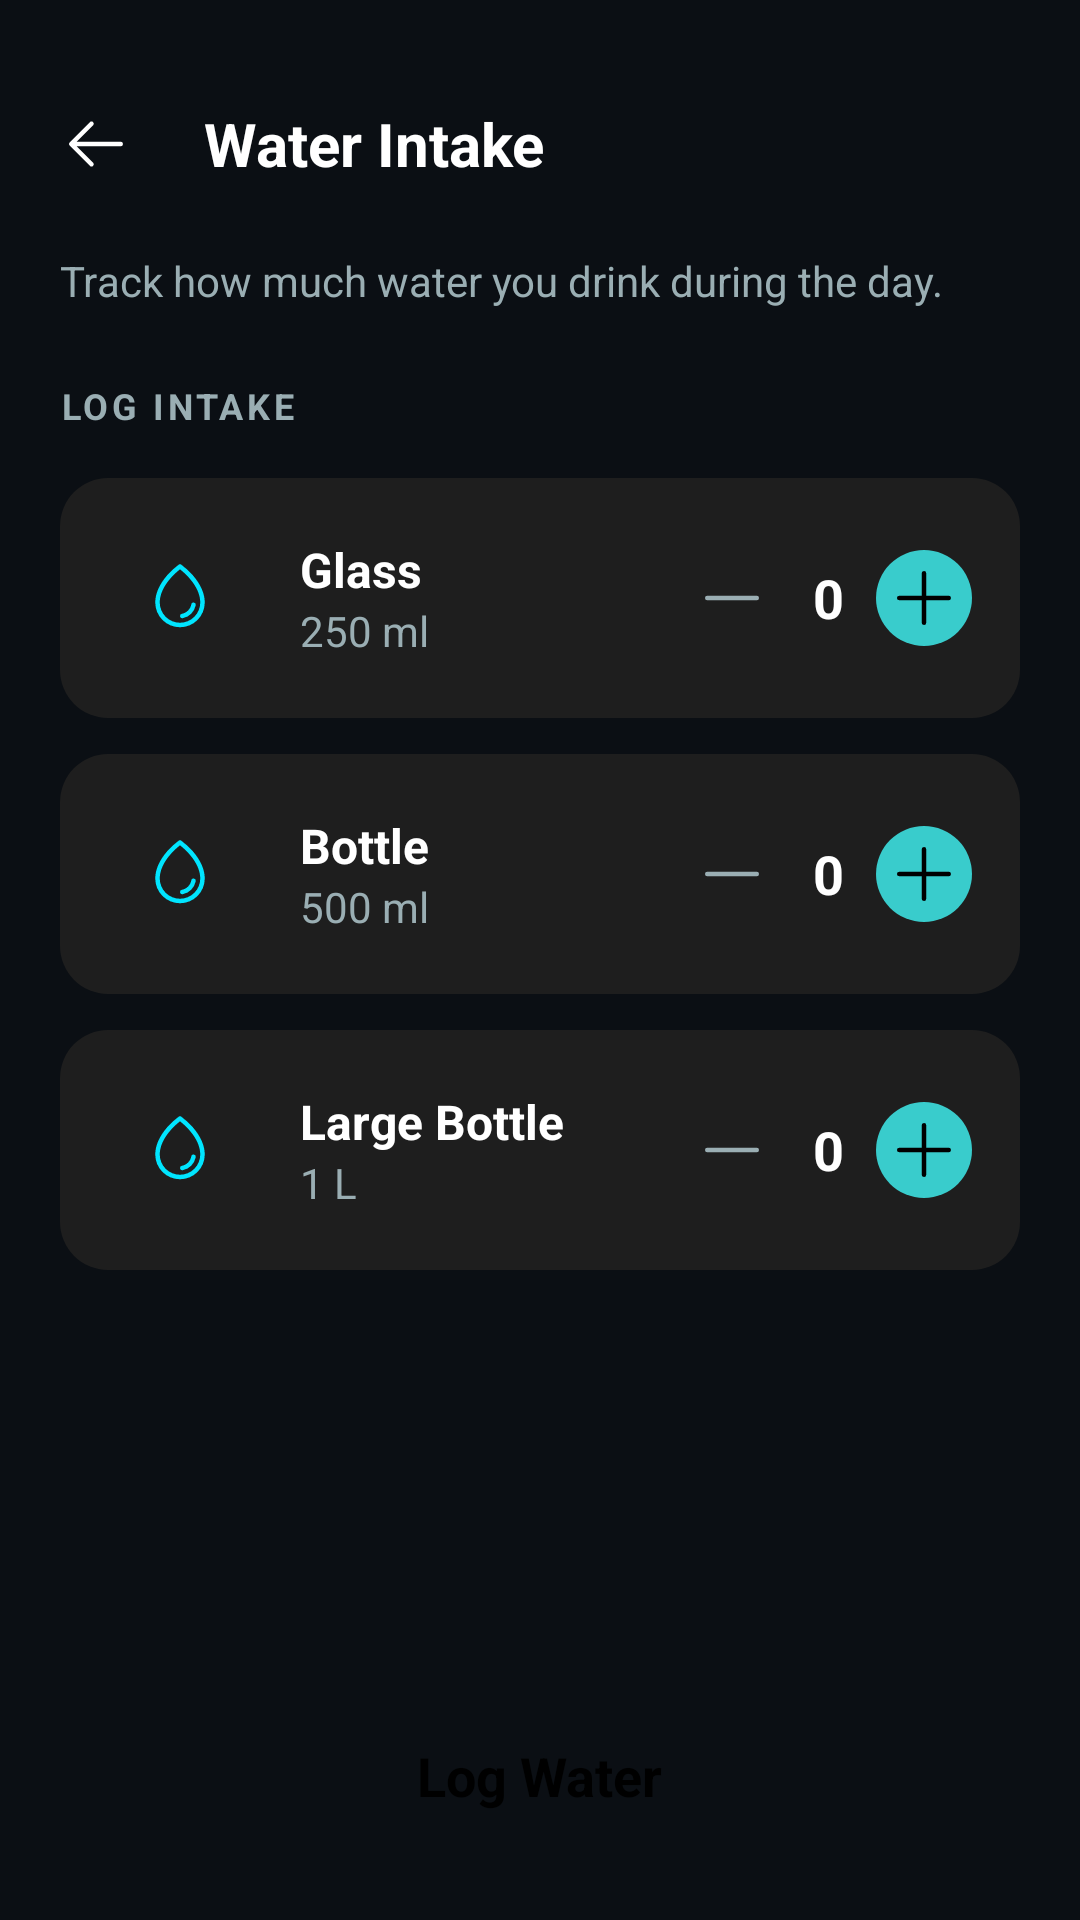

Point at icon controls on the screen. Image size 1080 × 1920, points as (x=x, y=y).
add: (x=924, y=598), (x=924, y=874), (x=924, y=1150)
Back: (x=96, y=144)
water drop: (x=180, y=596), (x=180, y=872), (x=180, y=1148)
